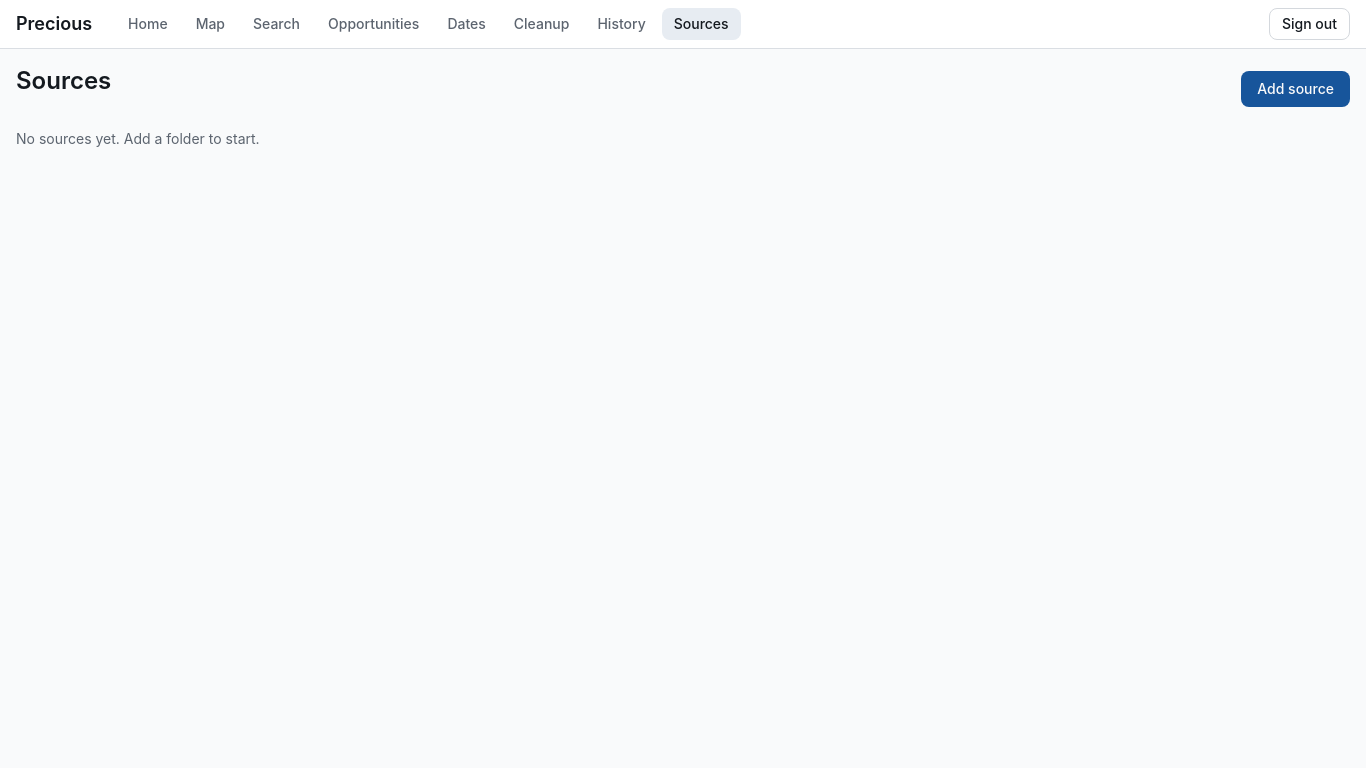
Test case: Sources screen › adds a folder chosen in the picker, never sending a path
expect the text "No sources yet. Add a folder to start." is shown: met, box left=16, top=130, right=260, bottom=147
Click the button "Add source": x=1296, y=89 left=1241, top=71, right=1350, bottom=107
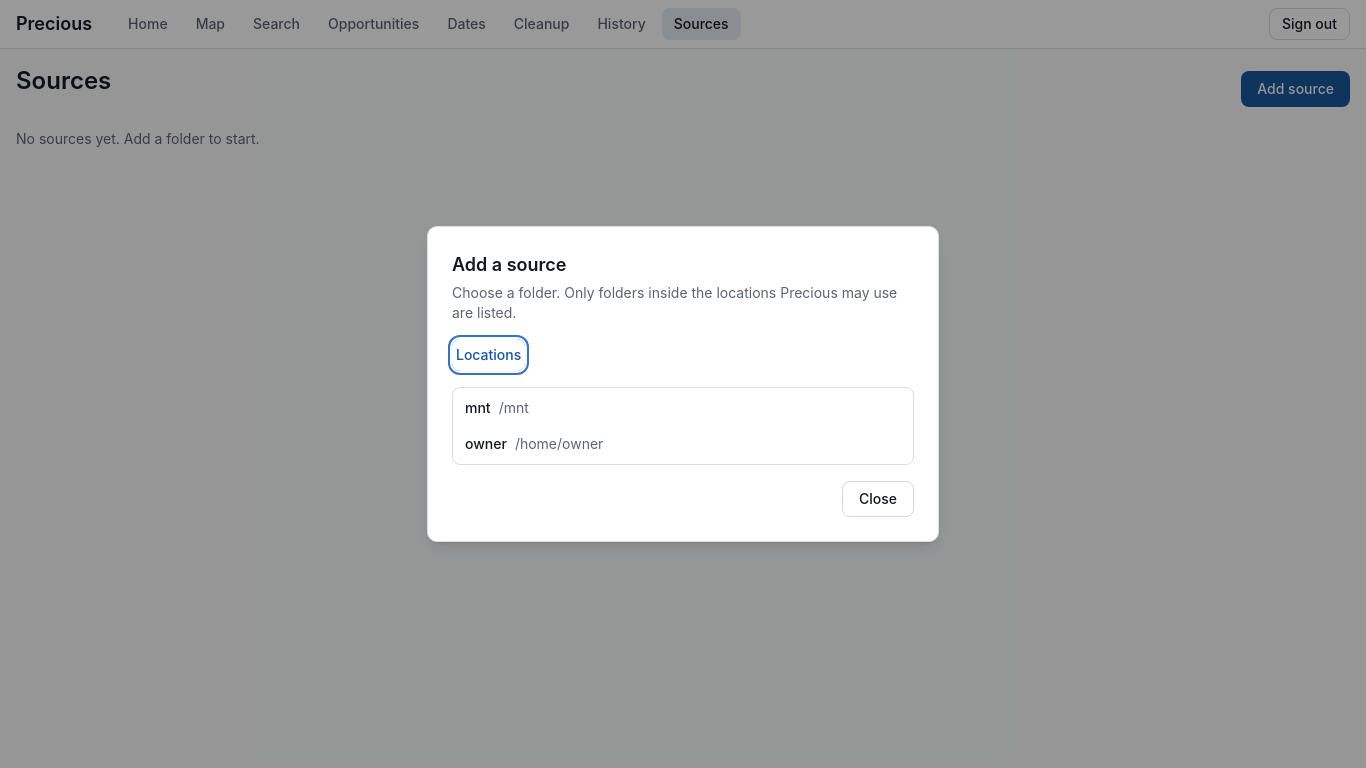
Click the button "mnt /mnt": x=514, y=408 left=457, top=392, right=909, bottom=424
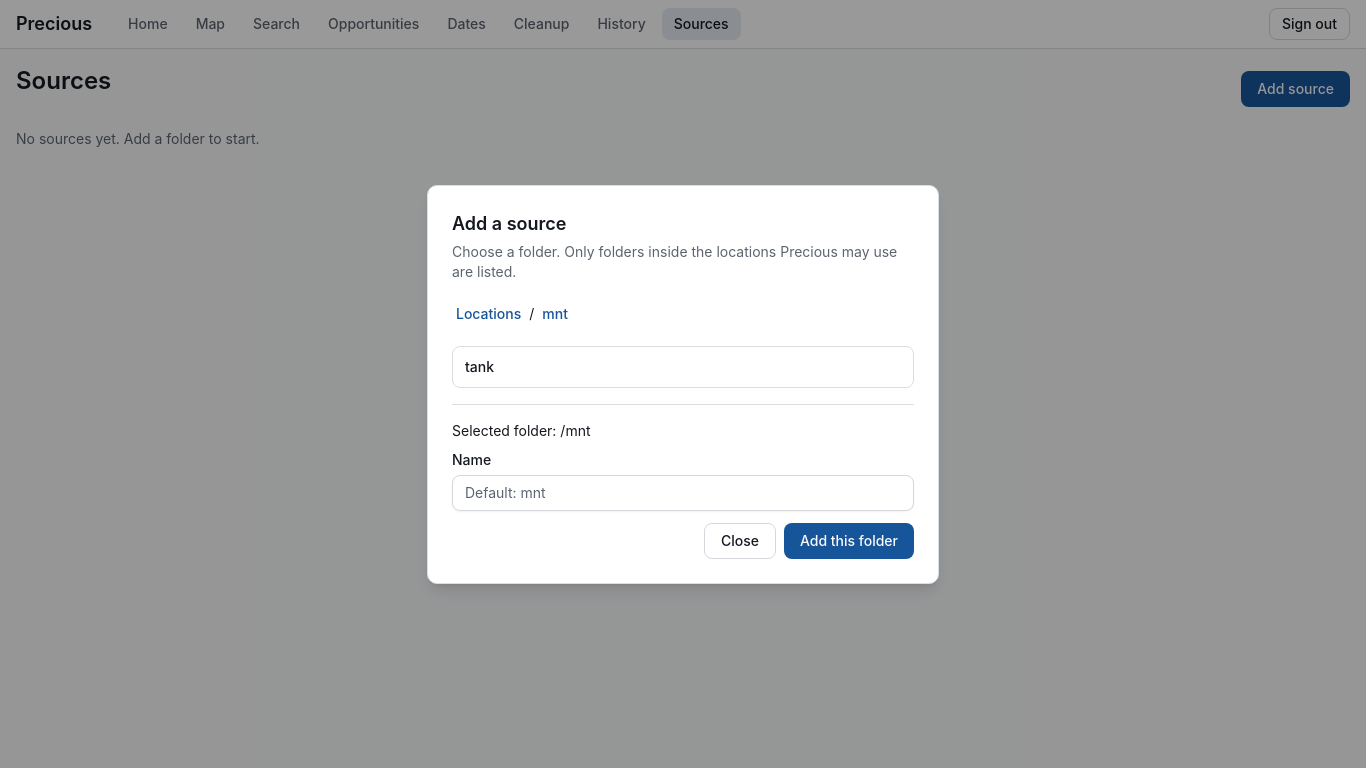
Click the button "tank": x=480, y=366 left=457, top=350, right=909, bottom=382
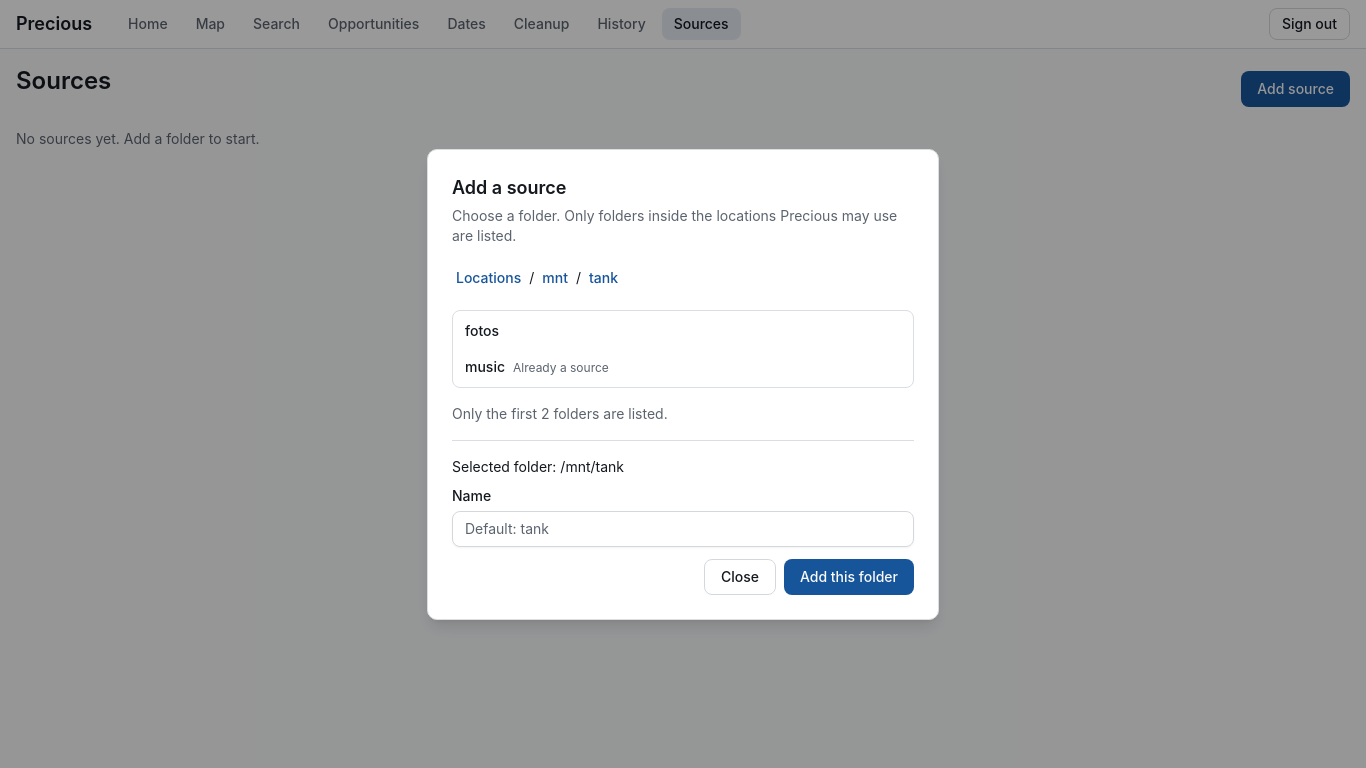
expect the text "Only the first 2 folders are listed." is shown: met, box left=452, top=404, right=668, bottom=422
expect the button "music Already a source" is shown: met, box left=457, top=350, right=909, bottom=382
Click the button "fotos": x=482, y=330 left=457, top=314, right=909, bottom=346
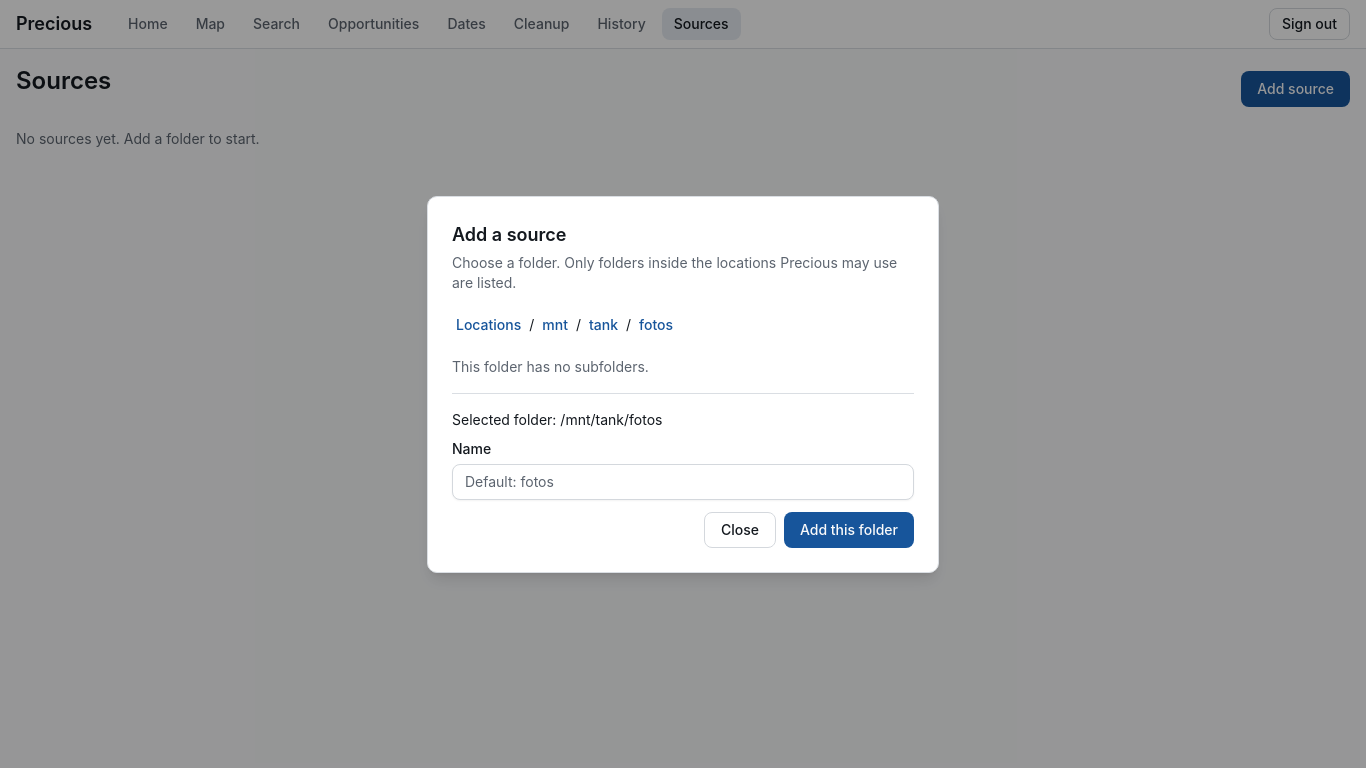
expect the text "This folder has no subfolders." is shown: met, box left=452, top=358, right=649, bottom=374
expect the text "Selected folder: /mnt/tank/fotos" is shown: met, box left=452, top=410, right=662, bottom=428
In the field labelled "Name": x=683, y=482 left=452, top=464, right=914, bottom=500, type "Holiday photos"
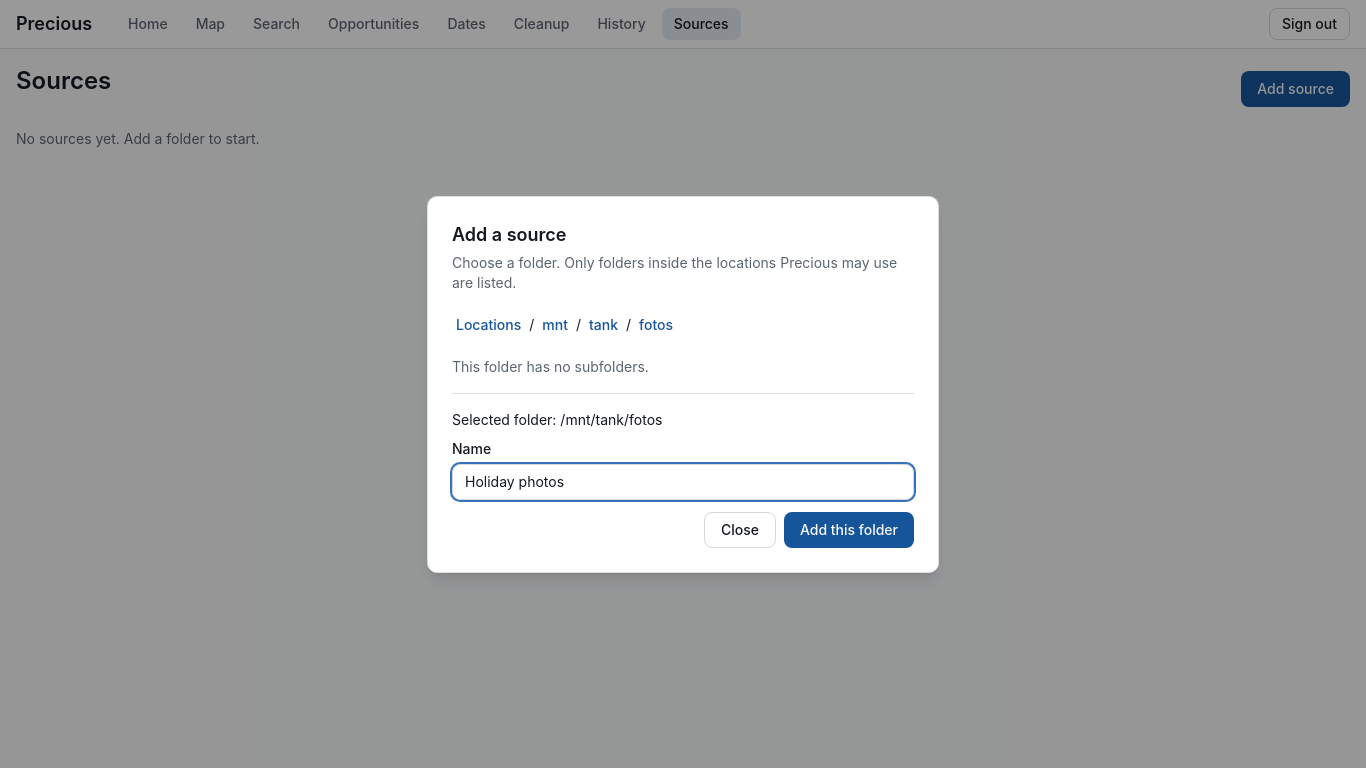
Click the button "Add this folder": x=849, y=530 left=784, top=512, right=914, bottom=548
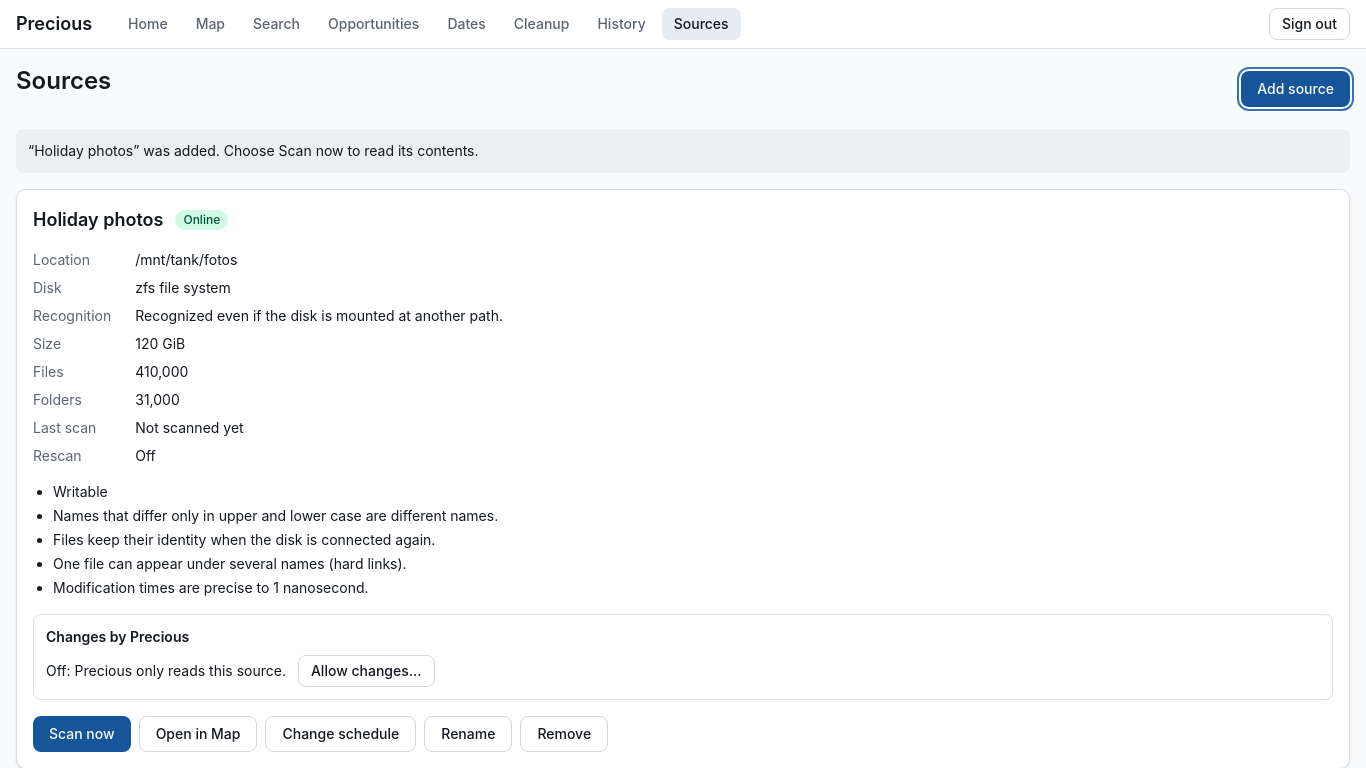
expect the element "Holiday photos" is shown: met
expect the dialog is gone: met
expect the message shows "“Holiday photos” was added. Choose Scan now": met, box left=28, top=142, right=478, bottom=159
